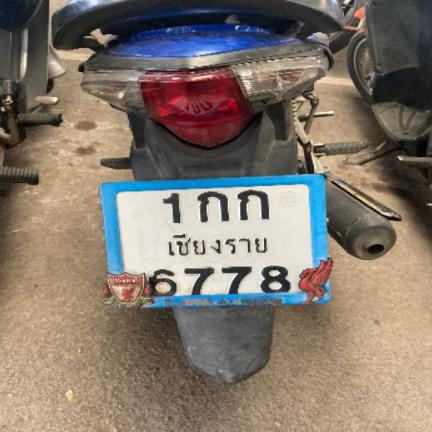1: (157, 190, 185, 225)
6: (145, 266, 177, 296)
7: (179, 266, 214, 295), (221, 265, 253, 294)
8: (256, 265, 292, 293)
A01: (196, 190, 231, 223), (237, 189, 272, 221)
CRI: (156, 231, 269, 257)
